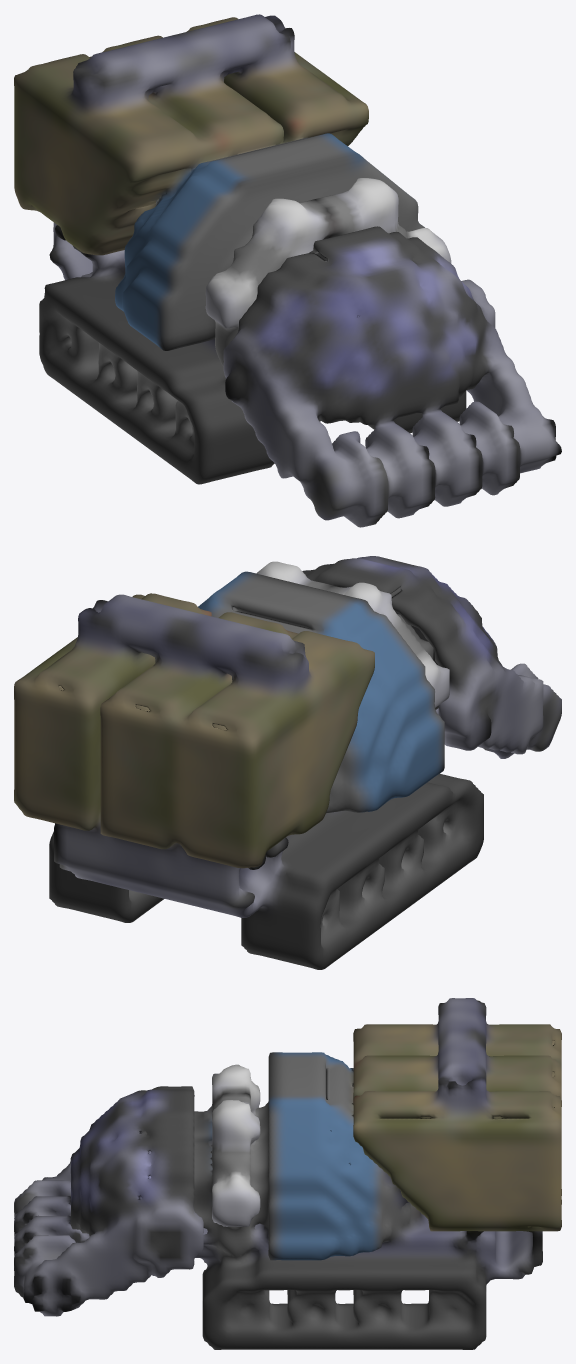
The model's file is cmin.glb.
The picture shows the model from 3 angles, top to bottom: view 1: azimuth 30°, elevation 25°; view 2: azimuth 150°, elevation 25°; view 3: azimuth 270°, elevation 25°; orthographic projection. The views are drawn at different scales.
Parts seen in each view (by area): view 1: cmin; view 2: cmin; view 3: cmin.
Boxes of the visible parts, bbox=[...] form: cmin: bbox=[14, 14, 561, 527]; cmin: bbox=[14, 556, 561, 969]; cmin: bbox=[14, 998, 561, 1349].
Bounding box in the file's own units: 2.37 × 2.56 × 4.8.
